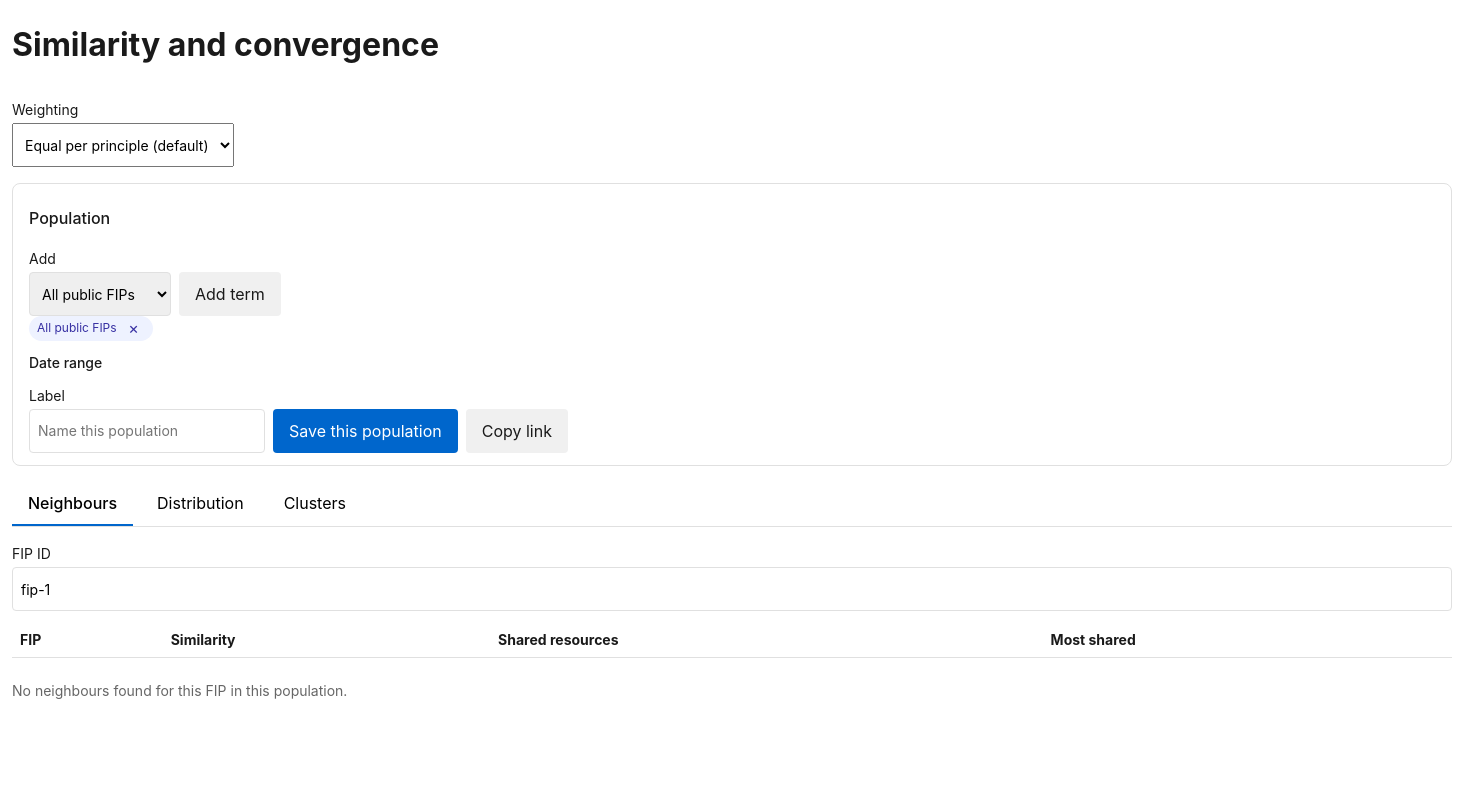
Test: DashboardSimilarity.vue (spec 13 §3.3/§4/§6.2) › shows the scatter when scatterAvailable is true
Click the tab "Distribution": coordinates (200, 504) [141,482,260,526]
(page scrolled)
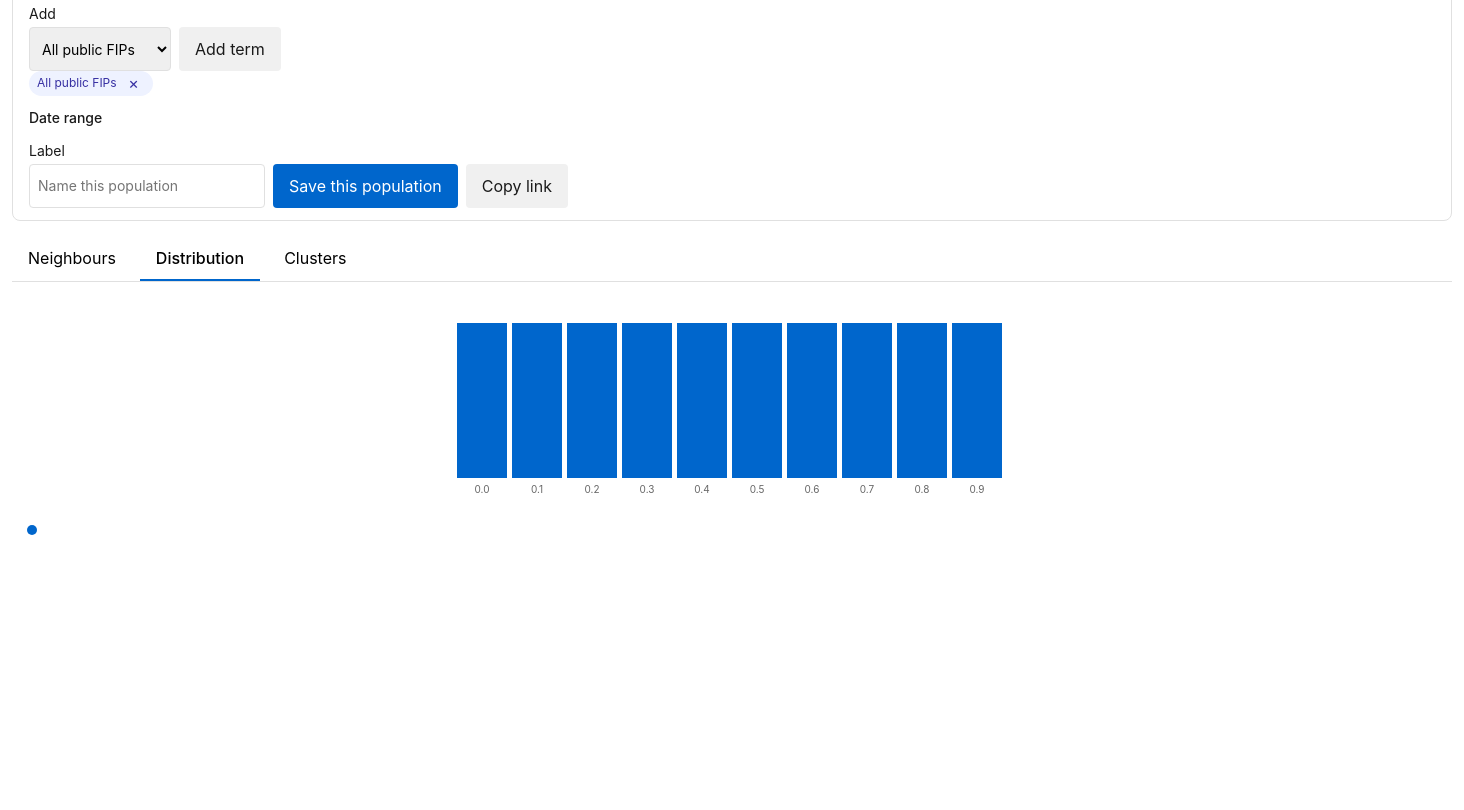
Expected: the picture named "Scatter plot of FIP similarity" is shown, [12,510,312,809]
